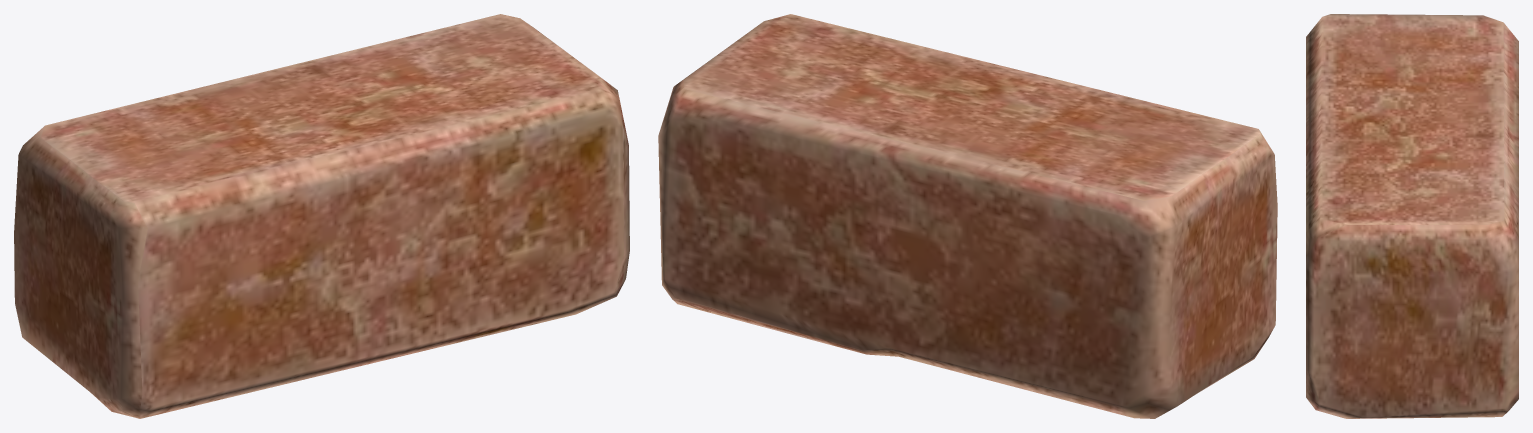
The picture shows the model from 3 angles, left to right: view 1: azimuth 30°, elevation 25°; view 2: azimuth 150°, elevation 25°; view 3: azimuth 270°, elevation 25°; orthographic projection. The views are drawn at different scales.
Parts seen in each view (by area): view 1: SM_Human_Ruins_Brick_03_LOD0; view 2: SM_Human_Ruins_Brick_03_LOD0; view 3: SM_Human_Ruins_Brick_03_LOD0.
Boxes of the visible parts, box(x1,y1,x2,y2) form: SM_Human_Ruins_Brick_03_LOD0: box(14, 14, 629, 418); SM_Human_Ruins_Brick_03_LOD0: box(658, 14, 1277, 418); SM_Human_Ruins_Brick_03_LOD0: box(1306, 14, 1518, 418).
Bounding box in the file's own units: 0.3061 × 0.125 × 0.125.
1 material, 1 textured.
